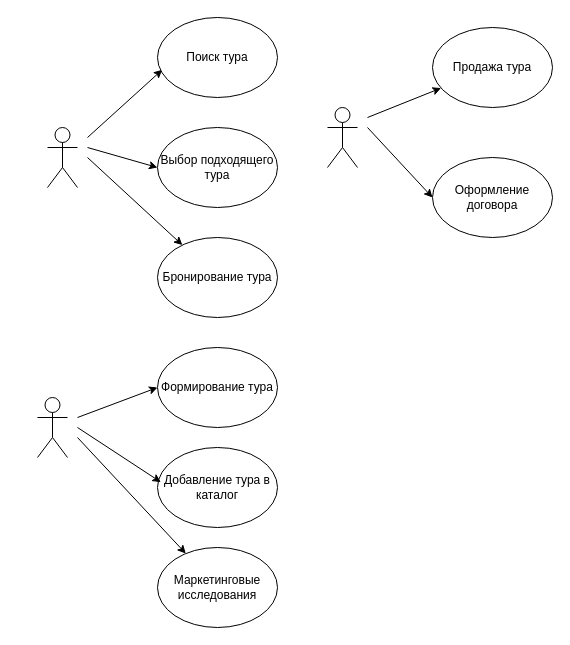
This 570x645 diagram has some shape labels left out. Each missing label, with the centre of its shape:
Клиент: the point at 62,157
Турагент: the point at 342,137
Туроператор: the point at 52,427
